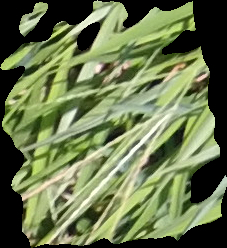grass: (1, 1, 226, 247)
